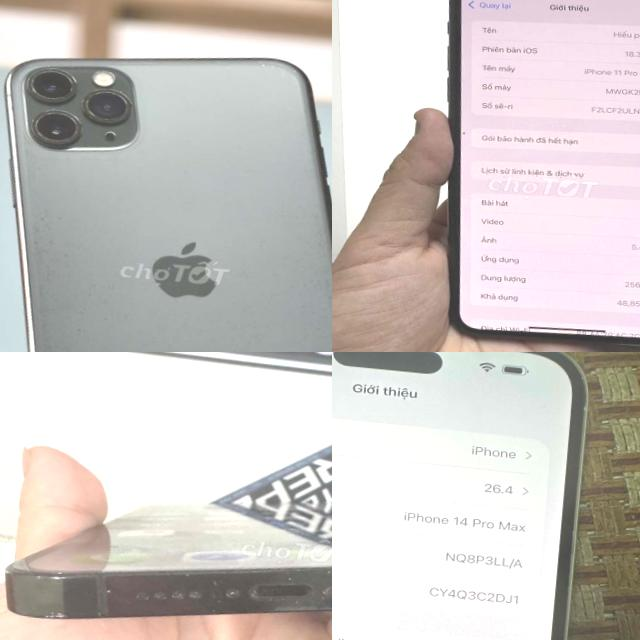gen_11: (0, 28, 332, 352), (409, 0, 640, 352)
gen_14: (332, 352, 587, 640), (5, 479, 332, 640)
scratch: (208, 541, 332, 634), (24, 598, 91, 632)
